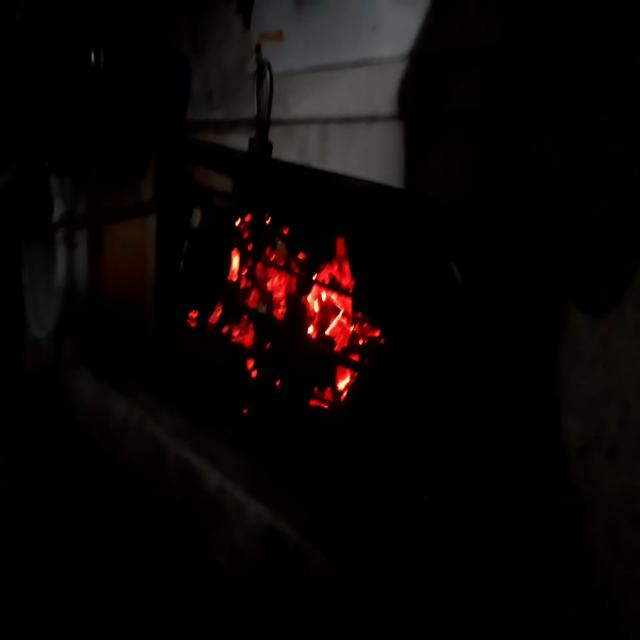Fire: (175, 204, 388, 418)
